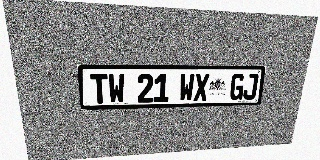1: (153, 74, 169, 102)
2: (137, 74, 153, 103)
G: (229, 74, 245, 100)
J: (242, 74, 259, 100)
T: (90, 74, 108, 104)
W: (108, 74, 125, 103), (179, 74, 195, 102)
X: (193, 74, 209, 101)
